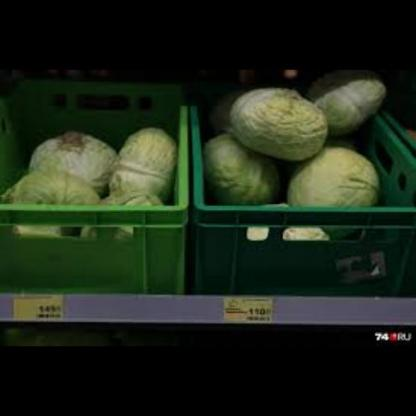cabbage: (204, 131, 293, 229), (233, 76, 324, 155), (292, 132, 370, 217), (22, 126, 124, 184), (3, 152, 104, 209), (111, 115, 179, 192)
